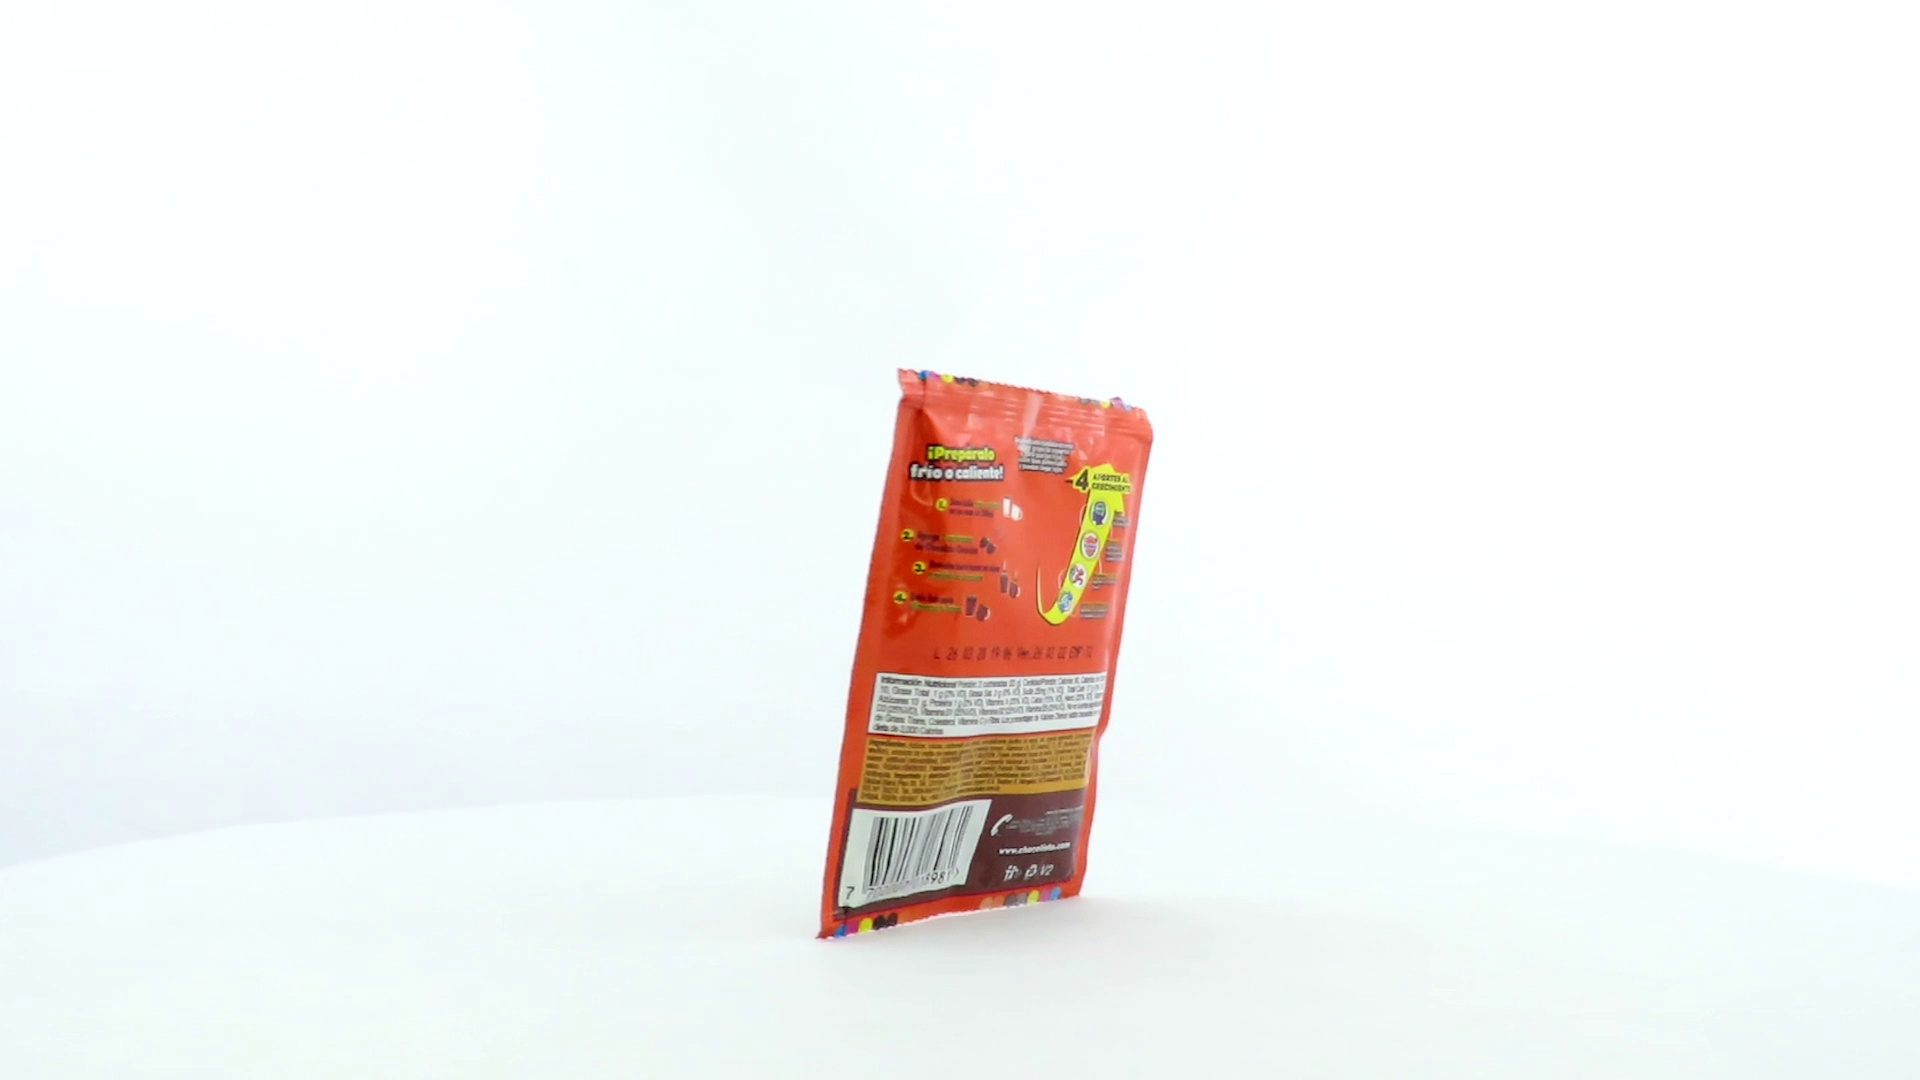COL0170103SOB02000: (810, 363, 1160, 945)
